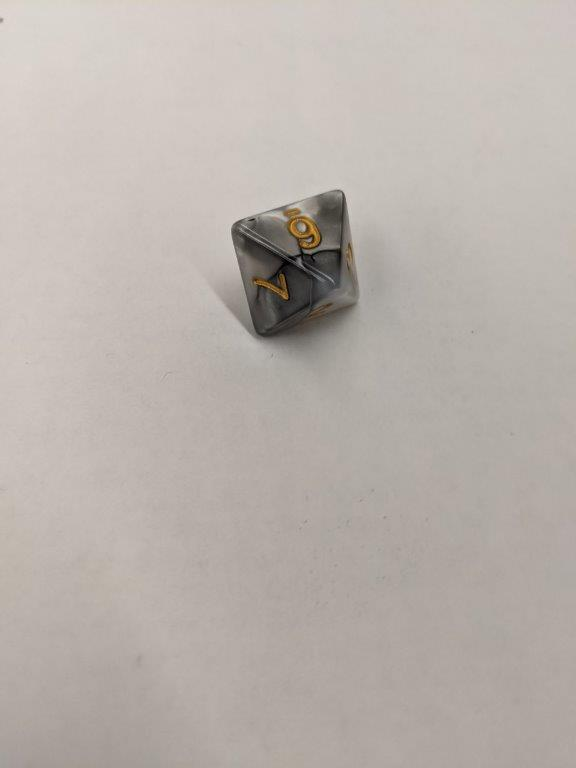d8-6: (231, 185, 363, 339)
